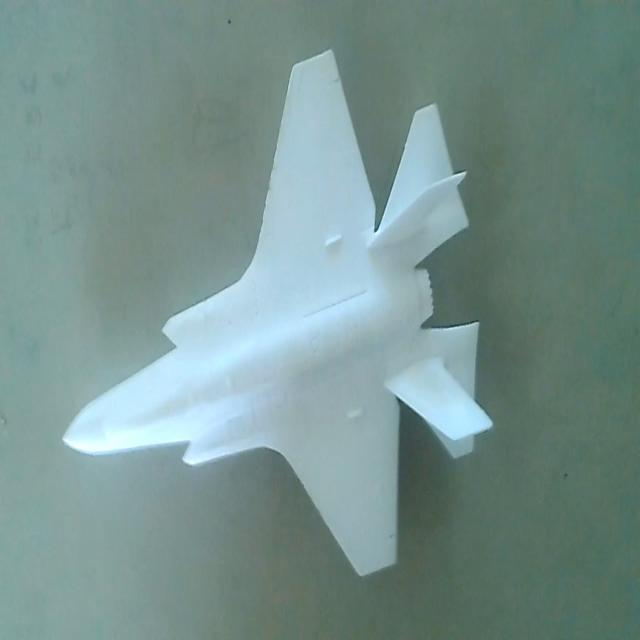Jet: (60, 46, 494, 583)
